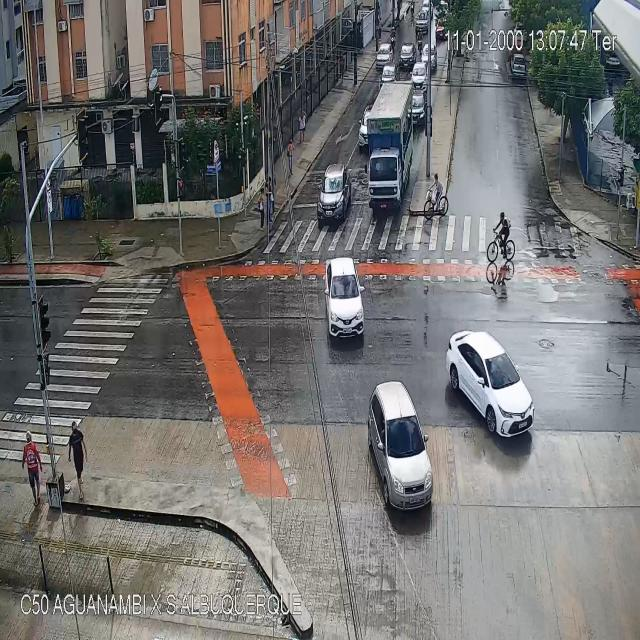Car: (446, 329, 534, 437), (370, 380, 434, 511), (324, 254, 364, 340), (317, 164, 351, 225), (410, 91, 425, 124), (410, 62, 427, 90), (359, 109, 370, 148), (399, 43, 415, 69), (375, 42, 393, 64), (381, 63, 400, 82), (421, 42, 436, 66), (511, 53, 526, 76), (416, 11, 429, 34), (435, 21, 447, 41)
Motorcycle: (417, 26, 423, 52), (390, 25, 395, 46), (410, 1, 415, 17)
Truck: (367, 81, 412, 205)
